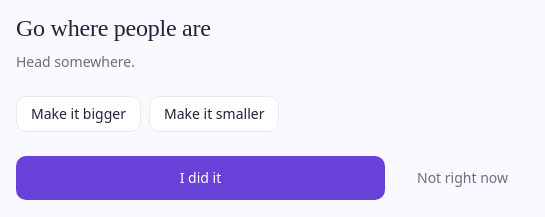
TinyActionFlow › Skip logs 'skipped' and shows a non-judgmental skipped view
Click the button "Not right now" at (462, 178), box [397, 156, 528, 200]
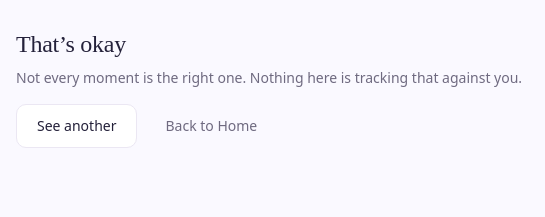
Now the heading "That’s okay" is shown, box [16, 31, 126, 57]
